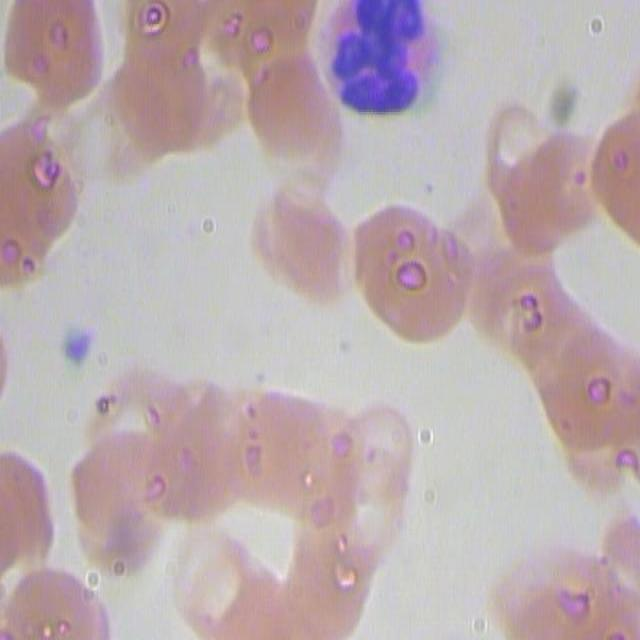RBC: (349, 202, 474, 340), (143, 379, 257, 520), (333, 166, 503, 256), (0, 120, 86, 278), (468, 243, 577, 366), (73, 432, 169, 571), (108, 56, 237, 155), (216, 386, 304, 518), (488, 557, 625, 640), (279, 528, 384, 636), (258, 184, 350, 305), (530, 334, 631, 444), (88, 381, 199, 477), (0, 0, 103, 97), (317, 403, 414, 505), (178, 535, 266, 640), (258, 74, 350, 174), (202, 0, 312, 78), (505, 147, 600, 237), (119, 1, 222, 78), (482, 105, 566, 183), (1, 450, 54, 570), (594, 116, 640, 252), (599, 515, 640, 578)
WBC: (311, 0, 444, 115)
platelets: (59, 323, 98, 374)
